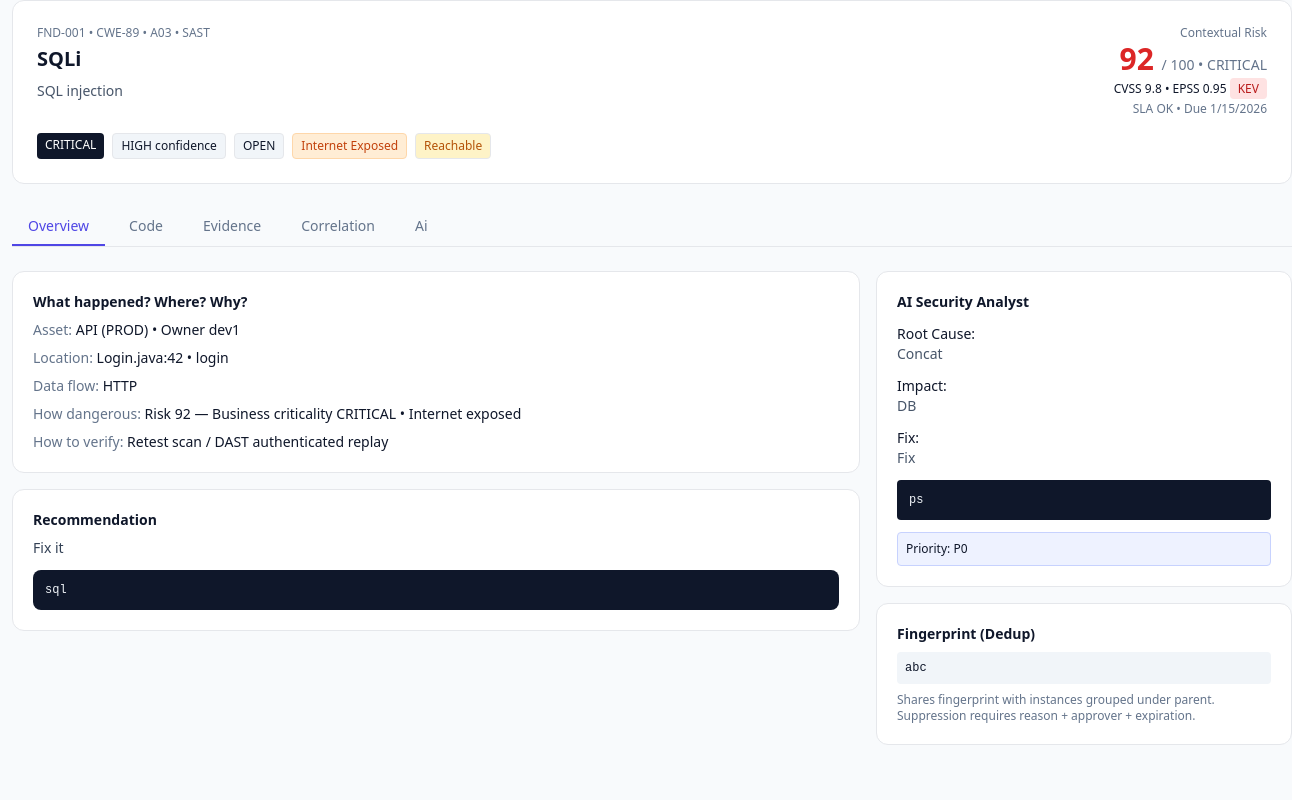
Test case: FindingDetail › evidence tab
Expected: the heading "SQLi" is shown, [37, 45, 81, 72]
Click the button "evidence".
click(232, 227)  # box [187, 208, 277, 246]
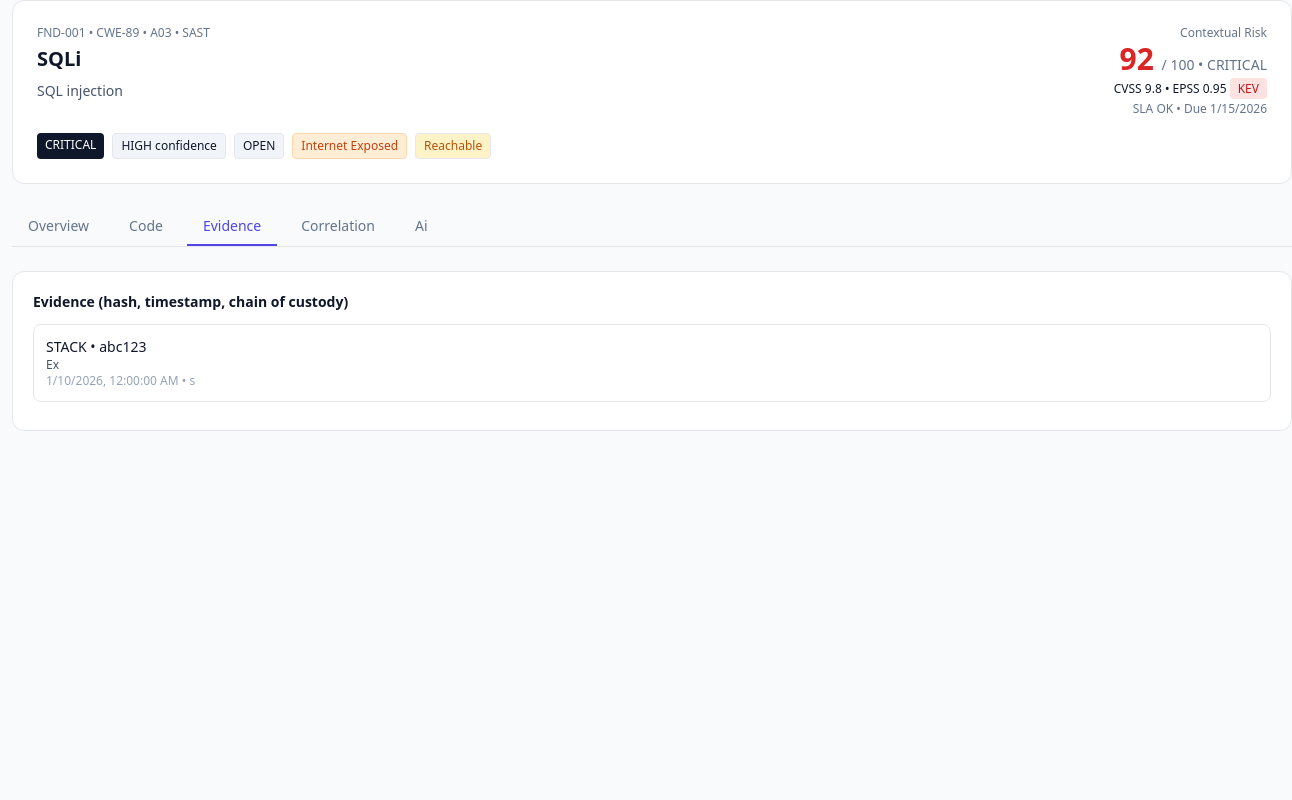
Expected: the text "STACK • abc123" is shown, [46, 337, 146, 356]
